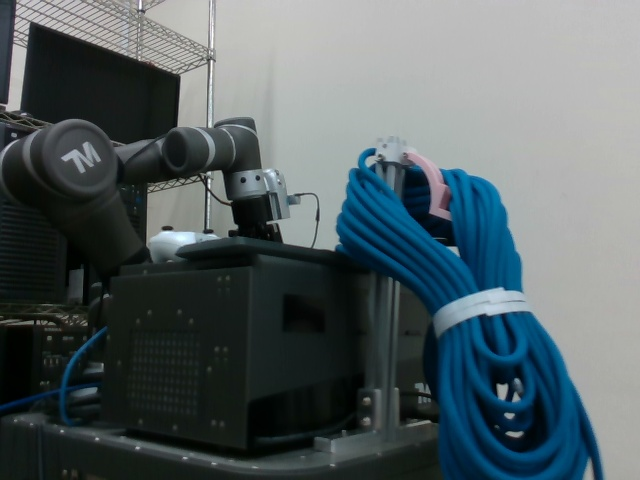rope: (339, 143, 599, 480)
